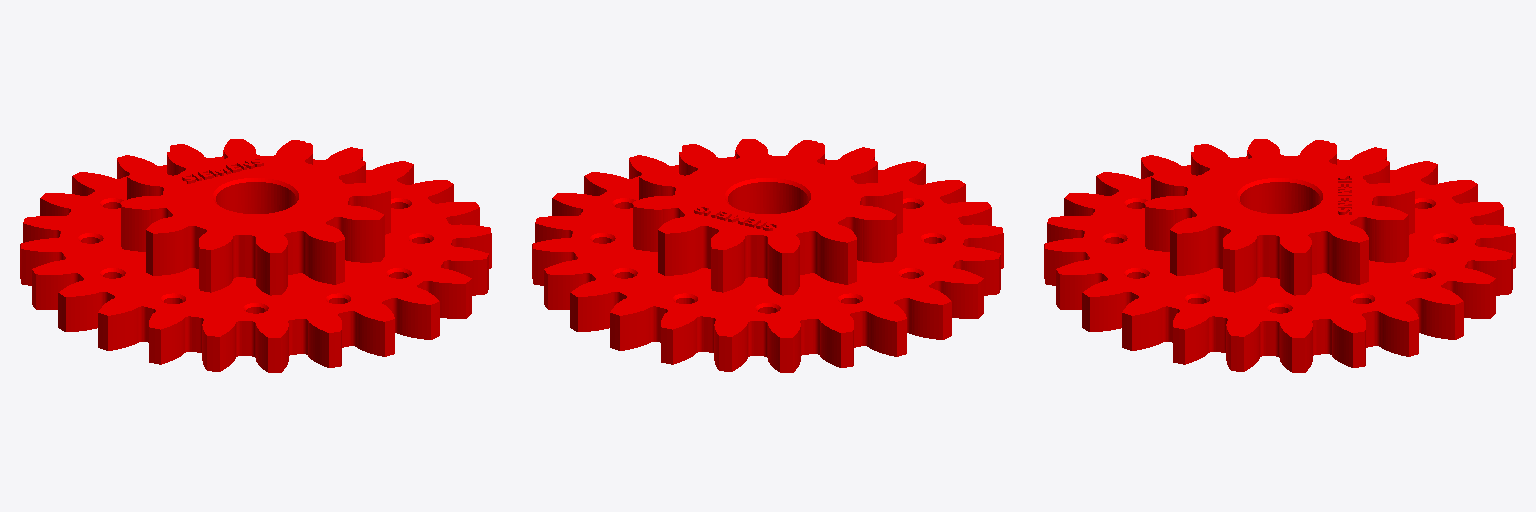
URDF robot description (gear3):
<?xml version="1.0"?>
<robot name="gear3">
    <link name="gear3">
        <visual>
            <origin xyz="0 0 0 " rpy=" 0 0 0"/>
            <geometry>
                <mesh filename="gearbox_meshes/gear3_precise.stl"/>
            </geometry>
            <material name="red">
                <color rgba="1.0 0.0 0.0 1.0"/>
            </material>
        </visual>
        <collision>
            <origin xyz="0 0 0" rpy="0 0 0"/>
            <geometry>
                <mesh filename="gearbox_meshes/gear3_precise.stl"/>
            </geometry>
            <sdf resolution="256"/>
        </collision>
    </link>
</robot>

--- What the picture shows (computed from the rendered views, not written in the file) ---
The picture shows the robot from 3 angles, left to right: view 1: azimuth 30°, elevation 25°; view 2: azimuth 150°, elevation 25°; view 3: azimuth 270°, elevation 25°; orthographic projection.
Model gear3 with 1 links and 0 joints (none), rooted at gear3, posed every joint at zero.
Visible links, largest first — view 1: gear3; view 2: gear3; view 3: gear3.
Boxes of the visible links, x1,y1,x2,y2 form: gear3: (20,139,491,372); gear3: (532,139,1003,372); gear3: (1044,139,1515,372).
Size in the robot's own frame: 0.1817 by 0.1817 by 0.0342 metres.
1 mesh visuals loaded from 1 distinct referenced files (1 binary STL).
